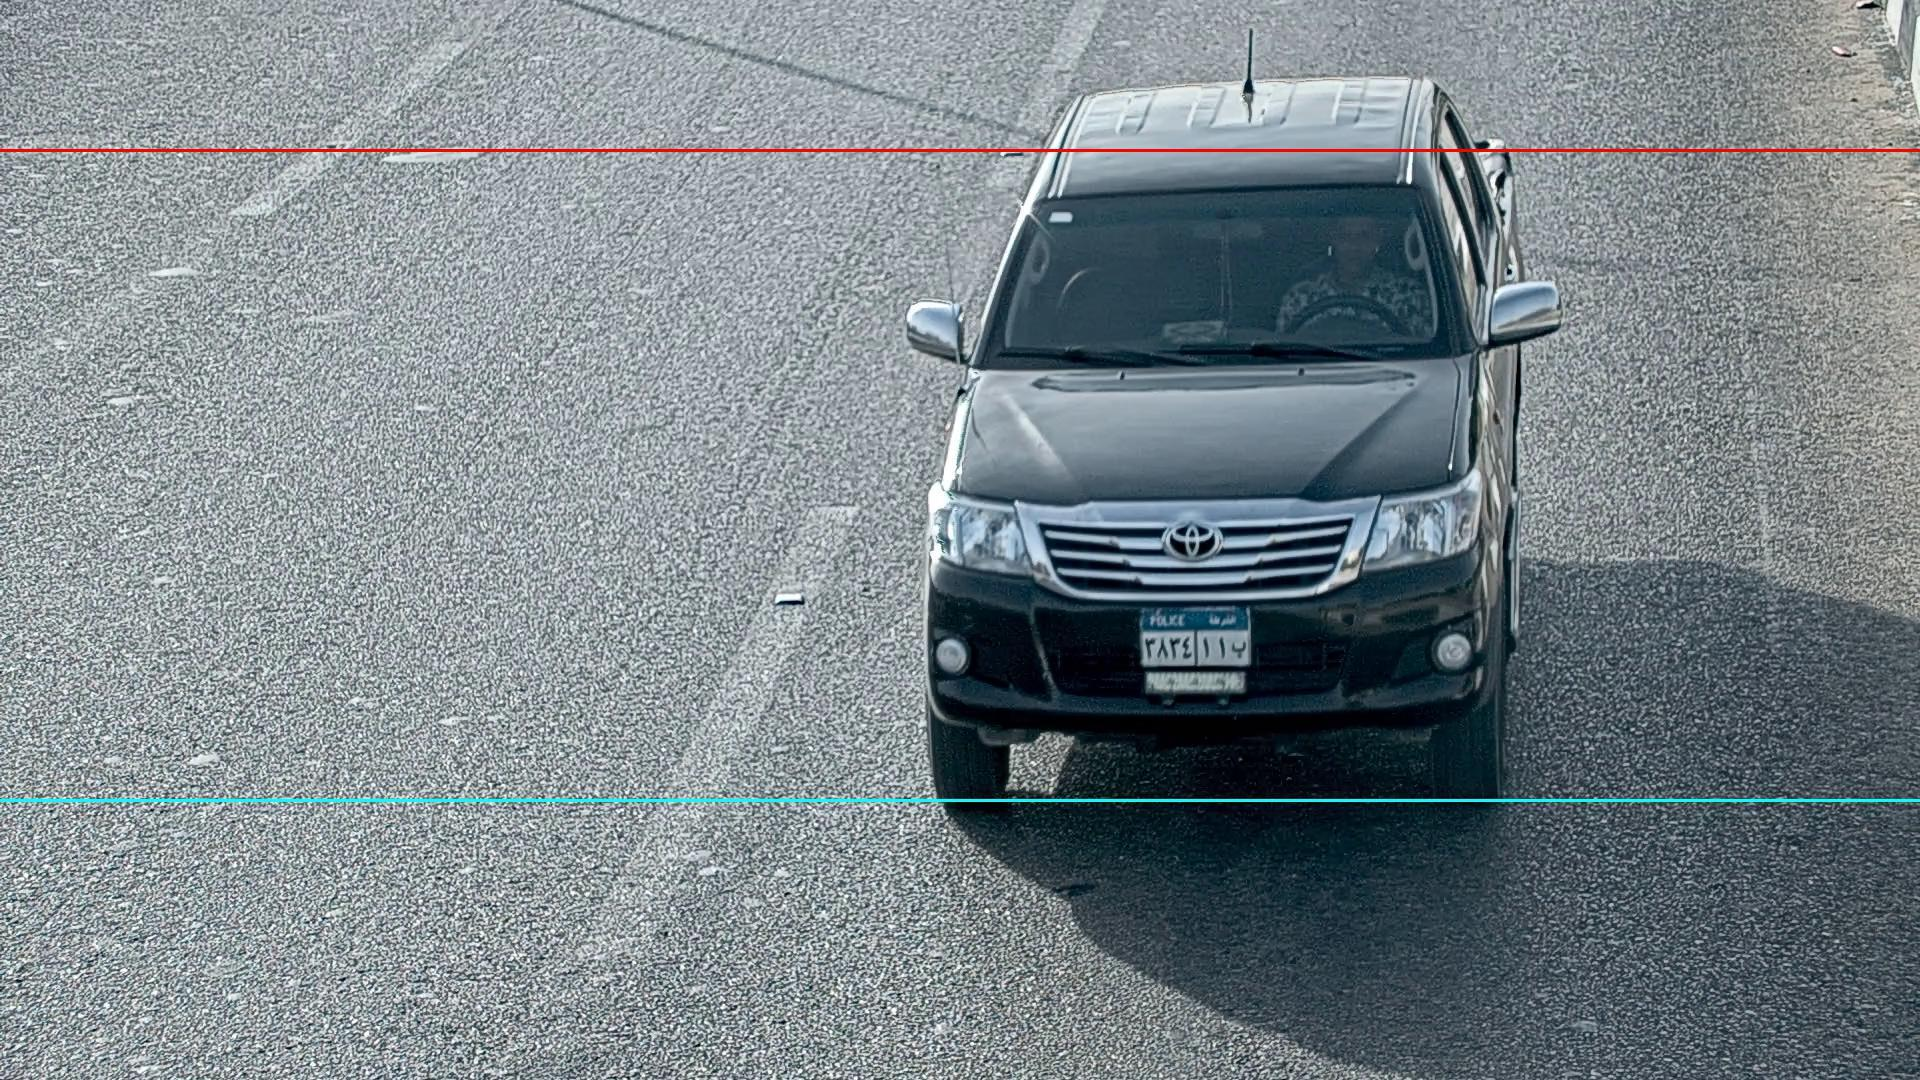windshield: (968, 170, 1468, 373)
